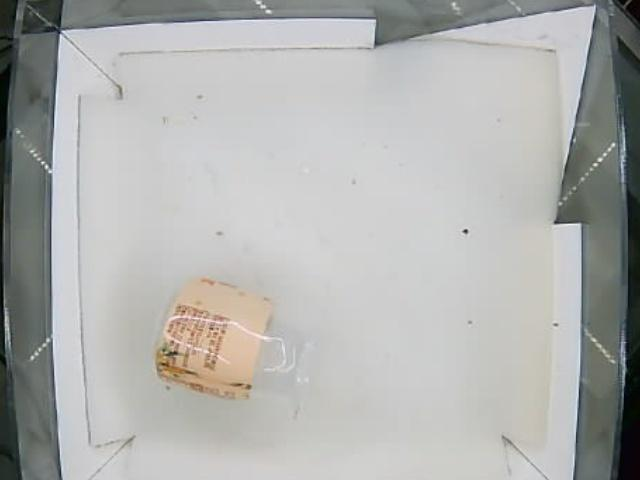Bottle: (149, 275, 317, 421)
